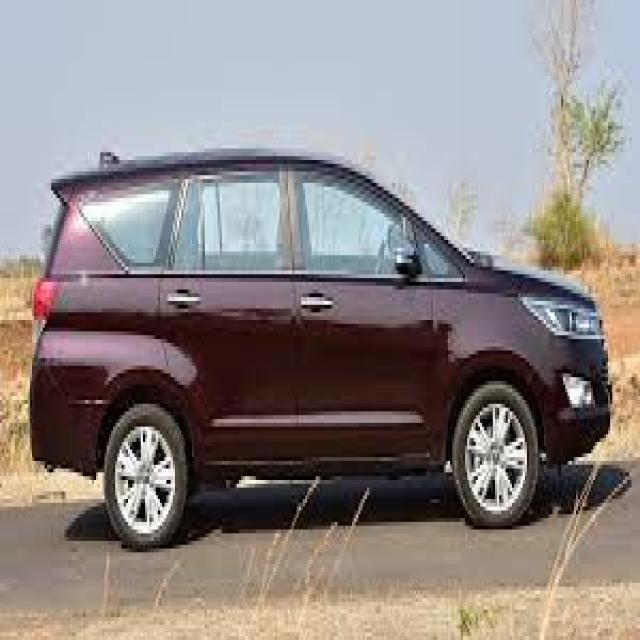light_vehicle: (30, 144, 612, 551)
